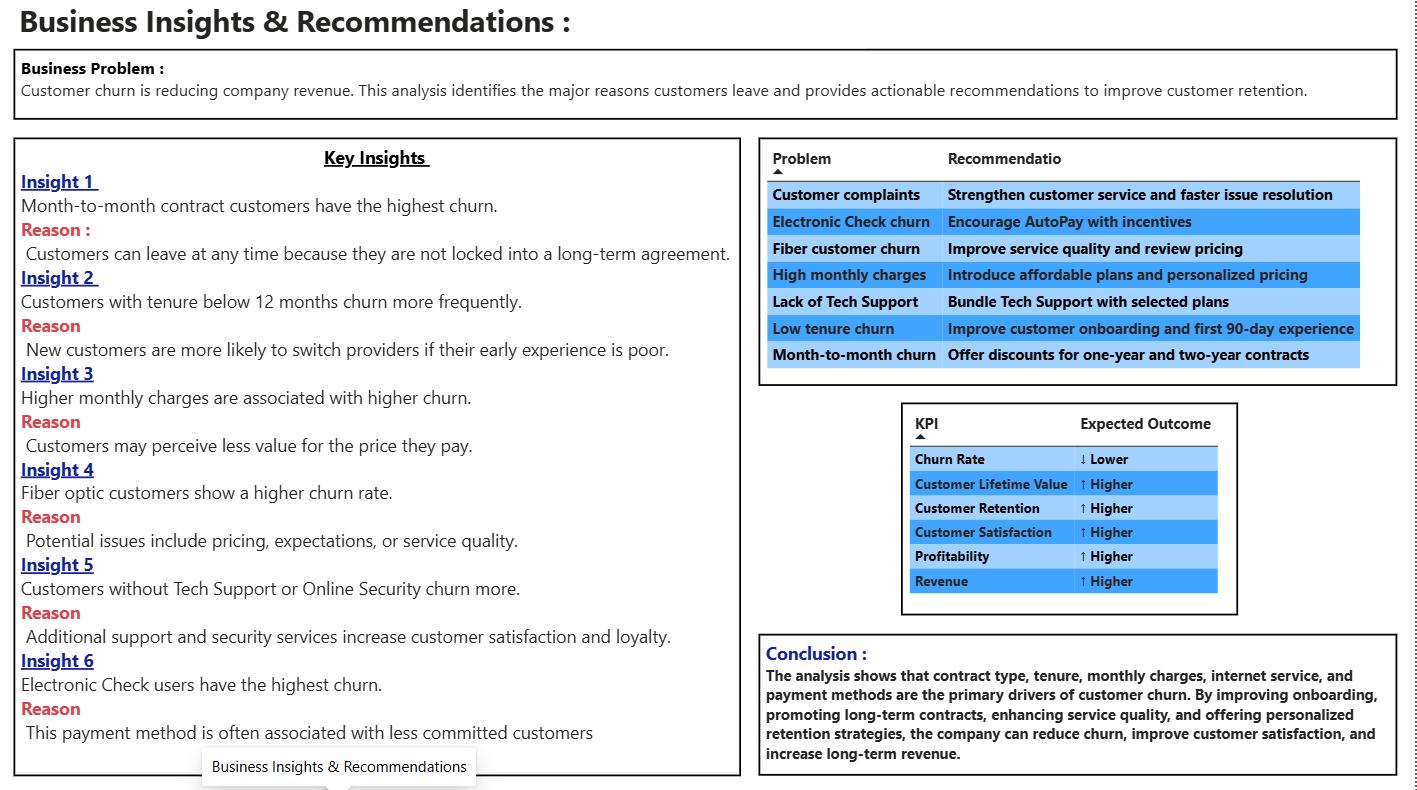

The dashboard page shown, as its layout file describes it:
{"tool":"powerbi","page":{"name":"Business Insights & Recommendations","canvas":[1280,720],"ordinal":1},"visuals":[{"type":"textbox","box":[16,48,1248,64],"z":0},{"type":"textbox","box":[16,128,656,576],"z":1000},{"type":"tableEx","fields":{"Values":["Table.Problem","Table.Recommendatio"]},"box":[688,128,576,224],"z":2000},{"type":"tableEx","fields":{"Values":["Table (2).KPI","Table (2).Expected Outcome"]},"box":[816,368,304,192],"z":3000},{"type":"textbox","box":[16,0,768,48],"z":4000},{"type":"textbox","box":[688,576,576,128],"z":5000}]}

Visuals, with their boxes in screenshot pixels (x1, y1, x2, y2), scaled from the page's 1280x720 canvas onto the 1417x790 screenshot:
textbox: 18:53:1399:123
textbox: 18:140:744:772
tableEx - Table.Problem x Table.Recommendatio: 762:140:1399:386
tableEx - Table (2).KPI x Table (2).Expected Outcome: 903:404:1240:614
textbox: 18:0:868:53
textbox: 762:632:1399:772
